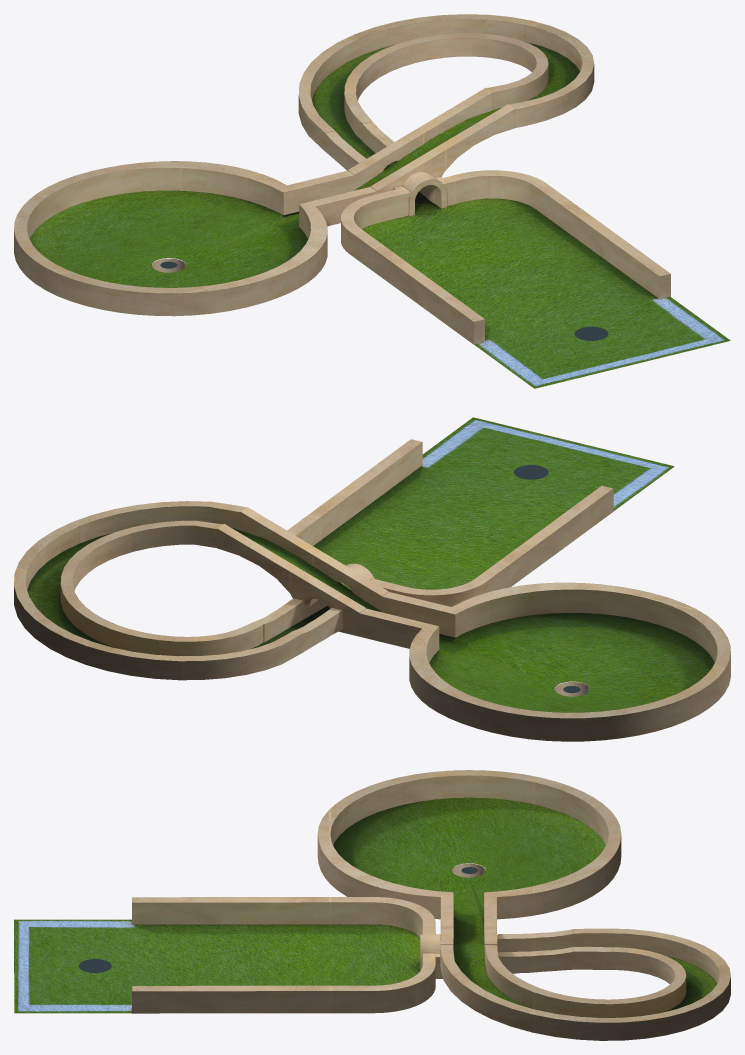
Rendered from tecer-campo.glb.
3 views of the same model, one above another, from view 1: azimuth 30°, elevation 25°; view 2: azimuth 150°, elevation 25°; view 3: azimuth 270°, elevation 25° (orthographic). The views are drawn at different scales.
Parts seen in each view (by area): view 1: paredes, circuito-suelo; view 2: paredes, circuito-suelo; view 3: paredes, circuito-suelo.
Boxes of the visible parts, bbox=[...] form: paredes: bbox=[14, 14, 670, 344]; circuito-suelo: bbox=[30, 42, 730, 388]; paredes: bbox=[14, 439, 730, 741]; circuito-suelo: bbox=[27, 417, 714, 712]; paredes: bbox=[132, 770, 730, 1040]; circuito-suelo: bbox=[14, 797, 716, 1013].
Bounding box in the file's own units: 4.9 × 0.9299 × 5.2.
4 materials, 3 textured.
